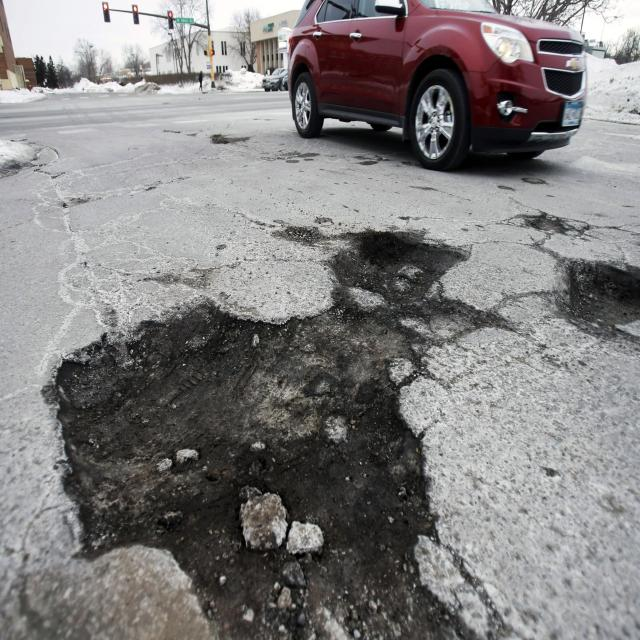Pothole: (62, 232, 461, 640), (564, 262, 640, 342)
